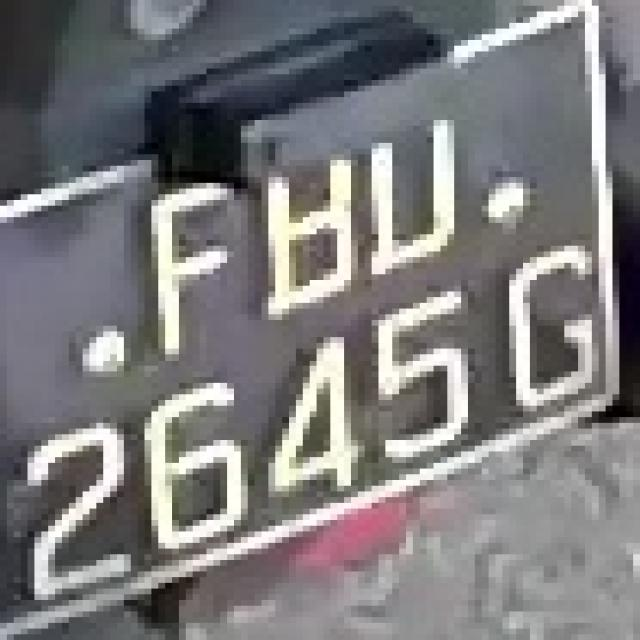2: (7, 406, 151, 600)
4: (254, 337, 364, 514)
5: (392, 274, 489, 469)
6: (110, 366, 275, 566)
B: (234, 120, 372, 326)
D: (344, 120, 468, 280)
F: (117, 160, 241, 349)
G: (496, 234, 606, 429)
